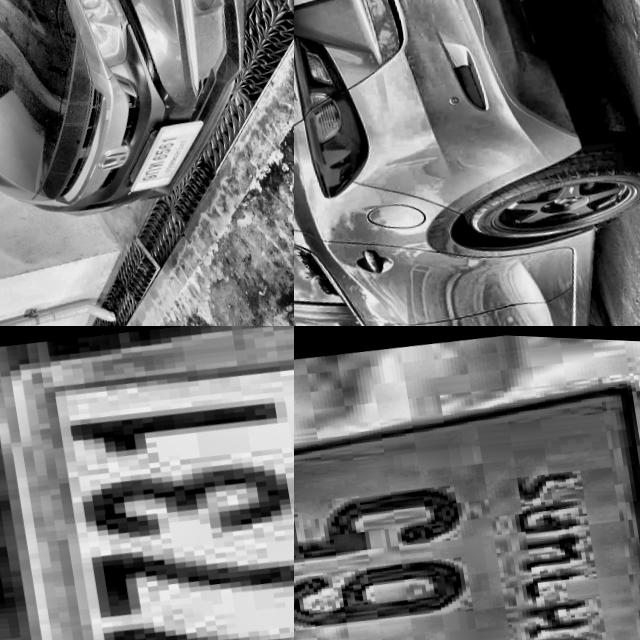license-plate: (294, 336, 640, 640), (0, 326, 294, 640), (118, 110, 215, 192)
